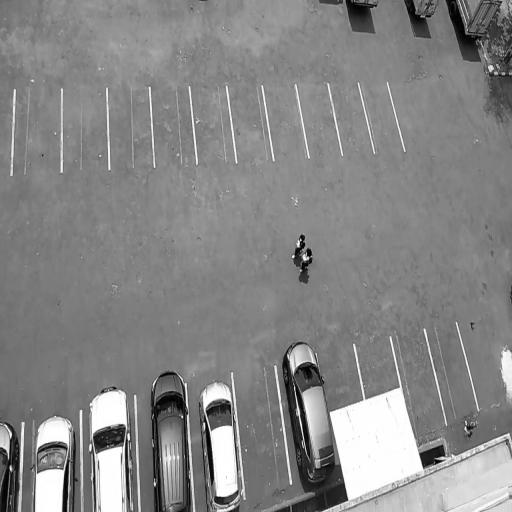Car: (280, 335, 340, 493), (85, 383, 136, 512), (197, 379, 245, 512), (149, 367, 193, 511), (29, 413, 76, 512), (447, 0, 505, 49), (0, 417, 20, 512), (406, 0, 443, 30)
Space Available: (233, 367, 290, 498), (392, 330, 446, 431), (426, 323, 478, 424), (12, 89, 61, 172), (107, 87, 156, 168), (62, 88, 108, 171), (150, 88, 197, 168), (190, 87, 236, 165), (227, 87, 273, 164), (296, 83, 342, 159), (263, 85, 308, 162), (329, 83, 374, 155), (317, 344, 364, 411), (359, 82, 404, 150), (356, 335, 400, 399), (0, 89, 16, 173)
